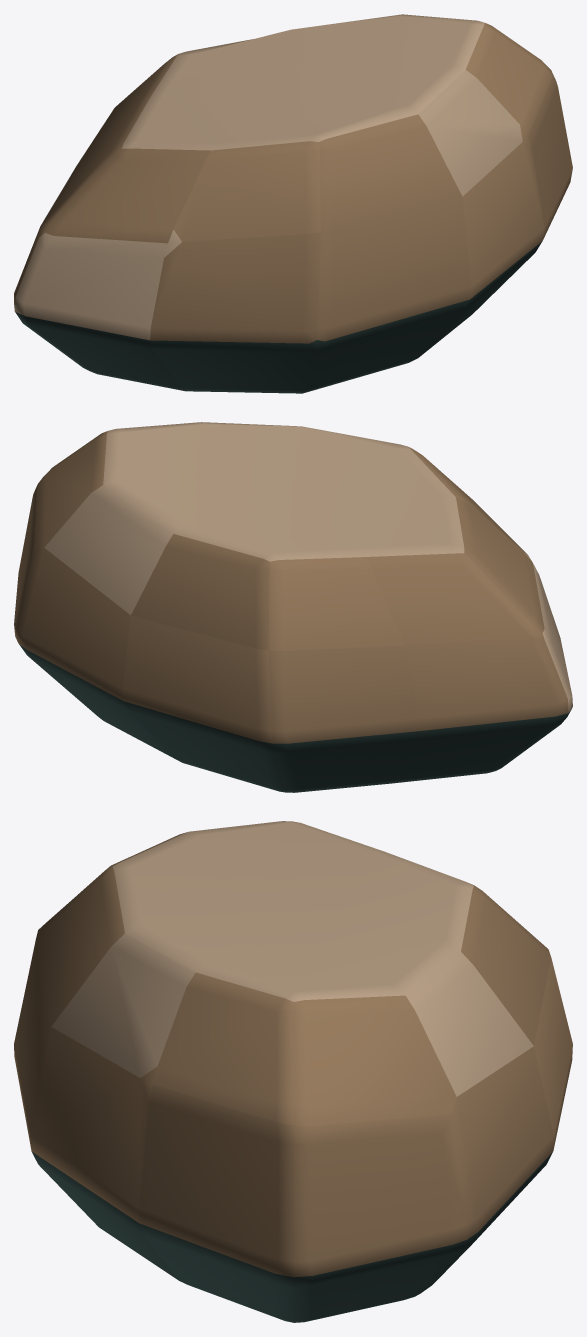
File: rock-sandstone-v4.glb
The picture shows the model from 3 angles, top to bottom: view 1: azimuth 30°, elevation 25°; view 2: azimuth 150°, elevation 25°; view 3: azimuth 270°, elevation 25°; orthographic projection. The views are drawn at different scales.
Parts seen in each view (by area): view 1: Rock sandstone; view 2: Rock sandstone; view 3: Rock sandstone.
Boxes of the visible parts, x1,y1,x2,y2 form: Rock sandstone: [14, 14, 572, 393]; Rock sandstone: [14, 422, 572, 792]; Rock sandstone: [14, 821, 572, 1322].
Bounding box in the file's own units: 3.15 × 1.39 × 2.13.
